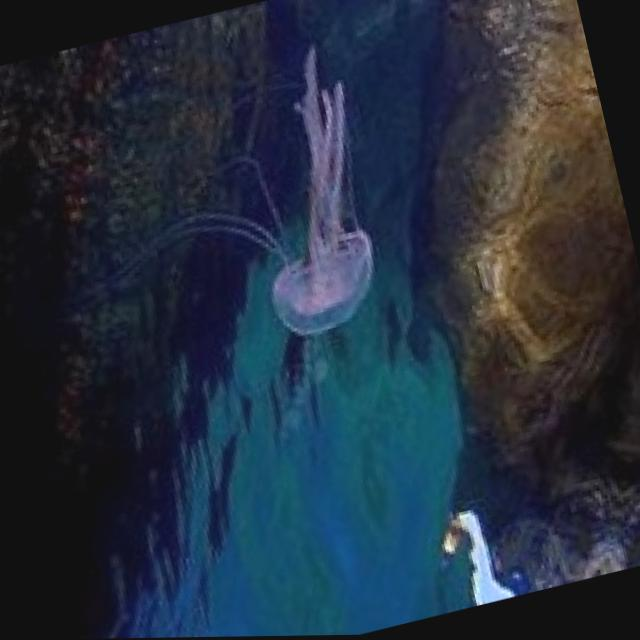Box-jellyfish: (217, 37, 403, 348)
